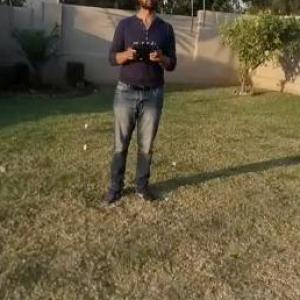follow: (98, 0, 179, 208)
